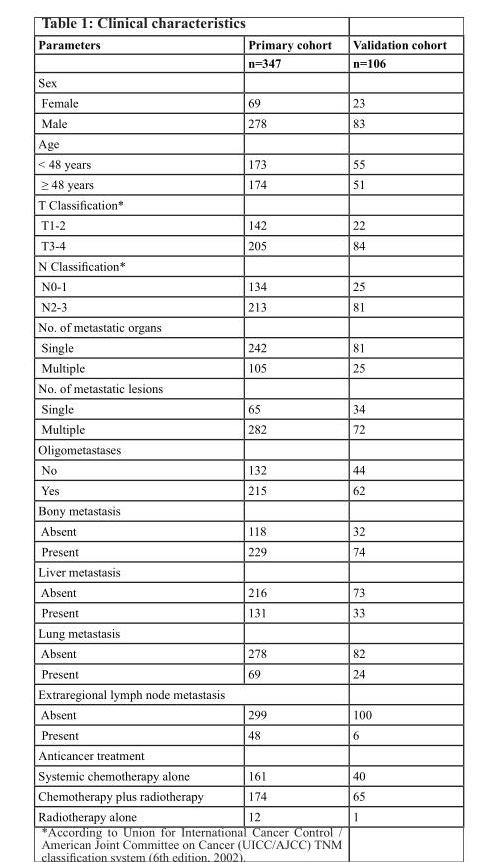table: (37, 37, 445, 822)
table column: (37, 37, 225, 822), (225, 37, 341, 822), (341, 37, 445, 822)
table column header: (37, 37, 445, 72)
table projected row header: (37, 132, 445, 153), (37, 438, 445, 459), (37, 499, 445, 520), (37, 72, 445, 92), (37, 194, 445, 214), (37, 255, 445, 275), (37, 316, 445, 336), (37, 377, 445, 397), (37, 561, 445, 581), (37, 622, 445, 642), (37, 683, 445, 703), (37, 744, 445, 764)
table row: (37, 132, 445, 153), (37, 173, 445, 194), (37, 234, 445, 255), (37, 295, 445, 316), (37, 336, 445, 357), (37, 397, 445, 418), (37, 438, 445, 459), (37, 499, 445, 520), (37, 540, 445, 561), (37, 601, 445, 622), (37, 642, 445, 663), (37, 703, 445, 724), (37, 764, 445, 785), (37, 72, 445, 92), (37, 92, 445, 112), (37, 112, 445, 132), (37, 153, 445, 173), (37, 194, 445, 214), (37, 214, 445, 234), (37, 255, 445, 275), (37, 275, 445, 295), (37, 316, 445, 336), (37, 357, 445, 377), (37, 377, 445, 397), (37, 418, 445, 438), (37, 459, 445, 479), (37, 479, 445, 499), (37, 520, 445, 540), (37, 561, 445, 581), (37, 581, 445, 601), (37, 622, 445, 642), (37, 663, 445, 683), (37, 683, 445, 703), (37, 724, 445, 744), (37, 744, 445, 764), (37, 785, 445, 805), (37, 53, 445, 72), (37, 805, 445, 822), (37, 37, 445, 53)
table spanning cell: (37, 37, 225, 72), (225, 37, 341, 72), (341, 37, 445, 72)
